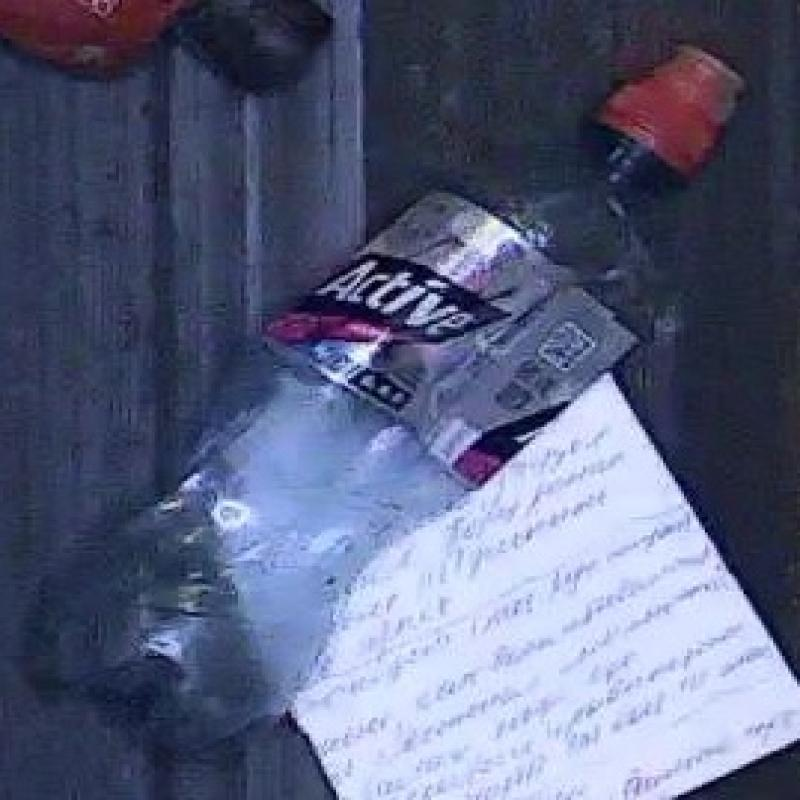botella: (25, 27, 745, 752)
